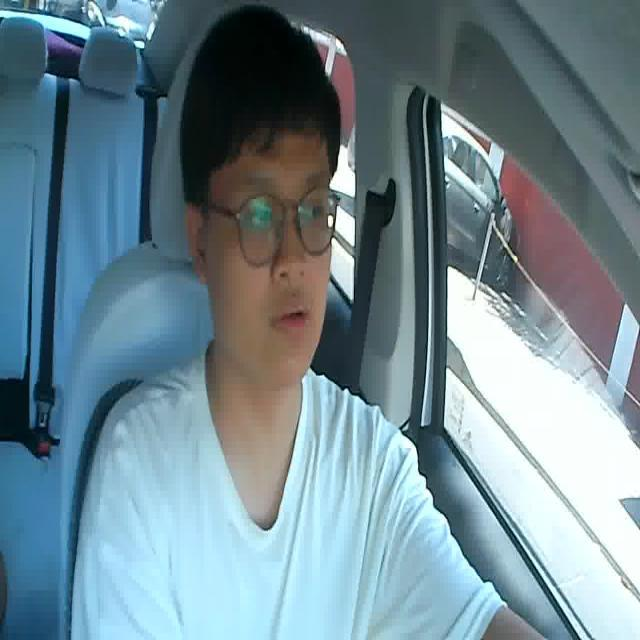Attentive: (178, 2, 343, 390)
Eye-Open: (248, 201, 276, 233), (305, 201, 321, 233)
Normal: (268, 300, 310, 339)
